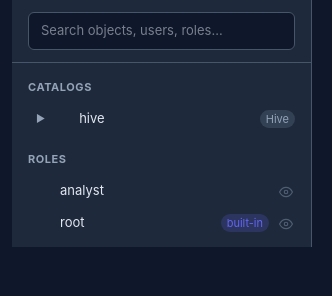
Test: Sidebar (populated) › collapsing a catalog hides its databases
The image size is (332, 296).
Click the text "hive" at (92, 118), box [79,110,105,126]
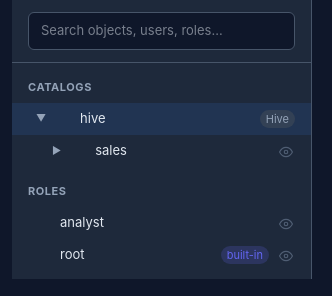
expect the text "sales" is shown: met, box [95,142,127,158]
Click the text "hive" at (93, 118), box [80,110,106,126]
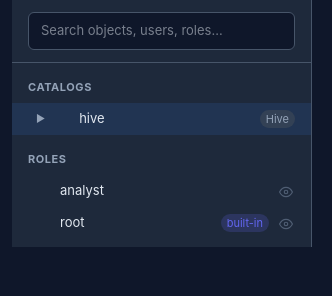
expect the button "sales" is gone: met
